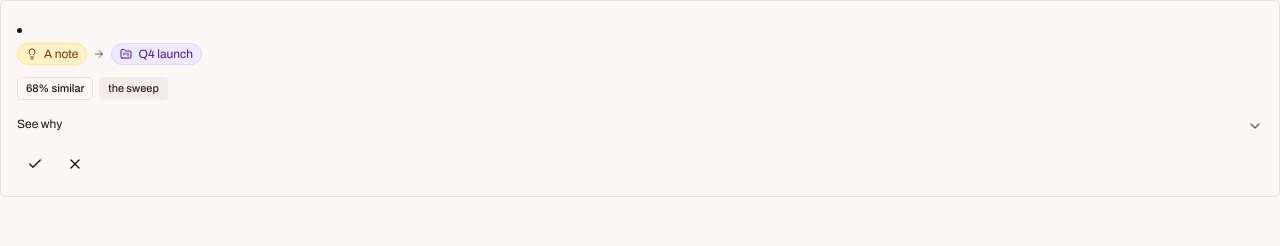
Test: DiscoveryCard › keeps the rationale hidden until "See why" is opened
The image size is (1280, 246).
Check: the text "Both discuss the Q4 filing" is not shown
Click the button "See why": click(40, 124) [17, 112, 1263, 136]
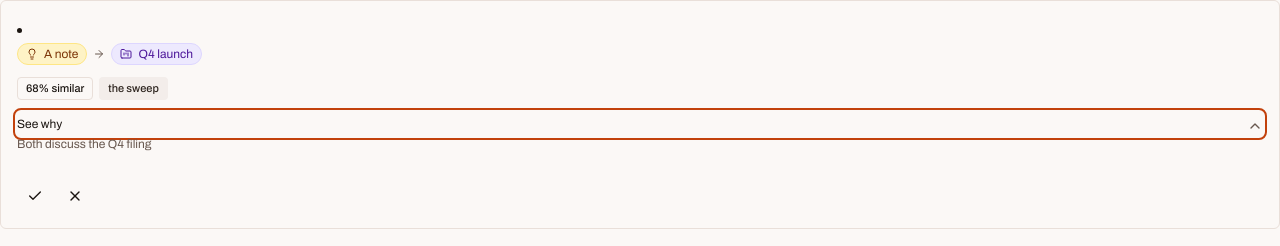
Check: the text "Both discuss the Q4 filing" is shown, box [17, 137, 152, 151]
